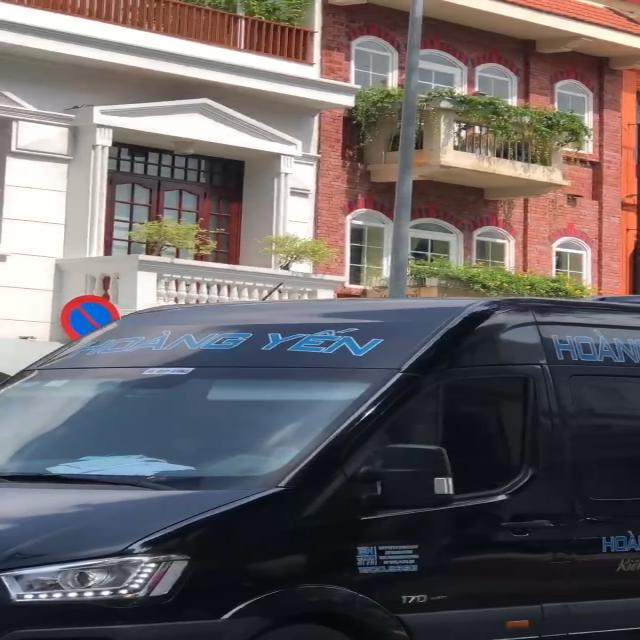Bien bao cam do xe: (55, 294, 123, 338)
